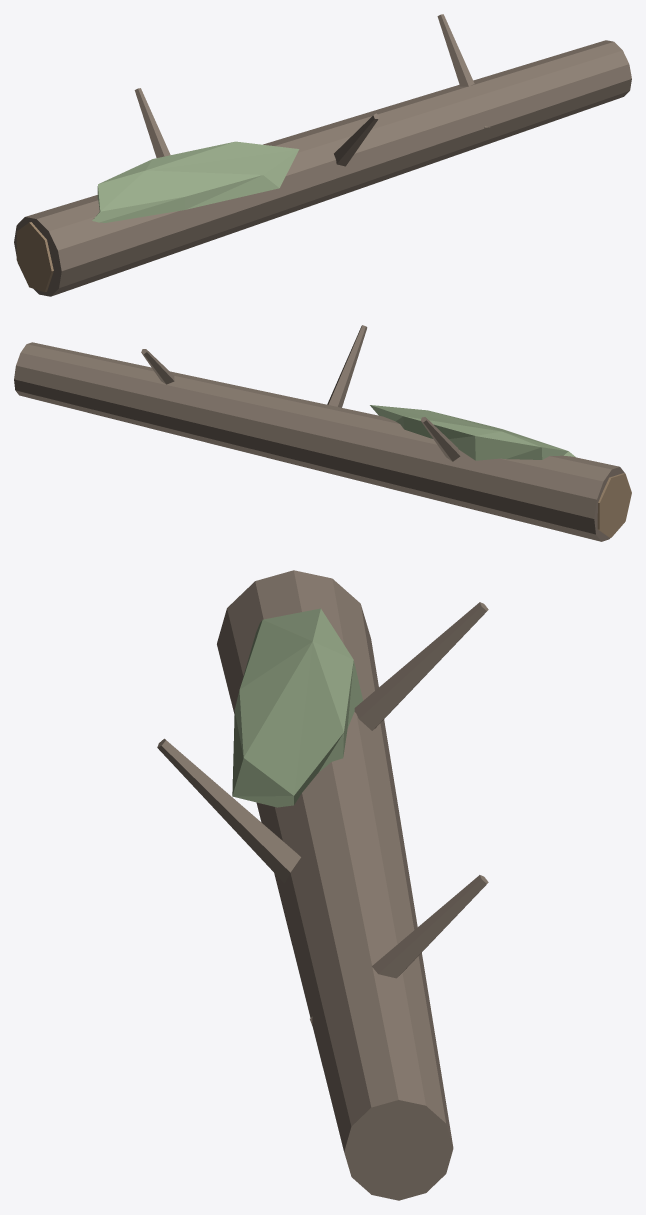
The picture shows the model from 3 angles, top to bottom: view 1: azimuth 30°, elevation 25°; view 2: azimuth 150°, elevation 25°; view 3: azimuth 270°, elevation 25°; orthographic projection. The views are drawn at different scales.
Bounding box in the file's own units: 8.09 × 1.68 × 2.06.
